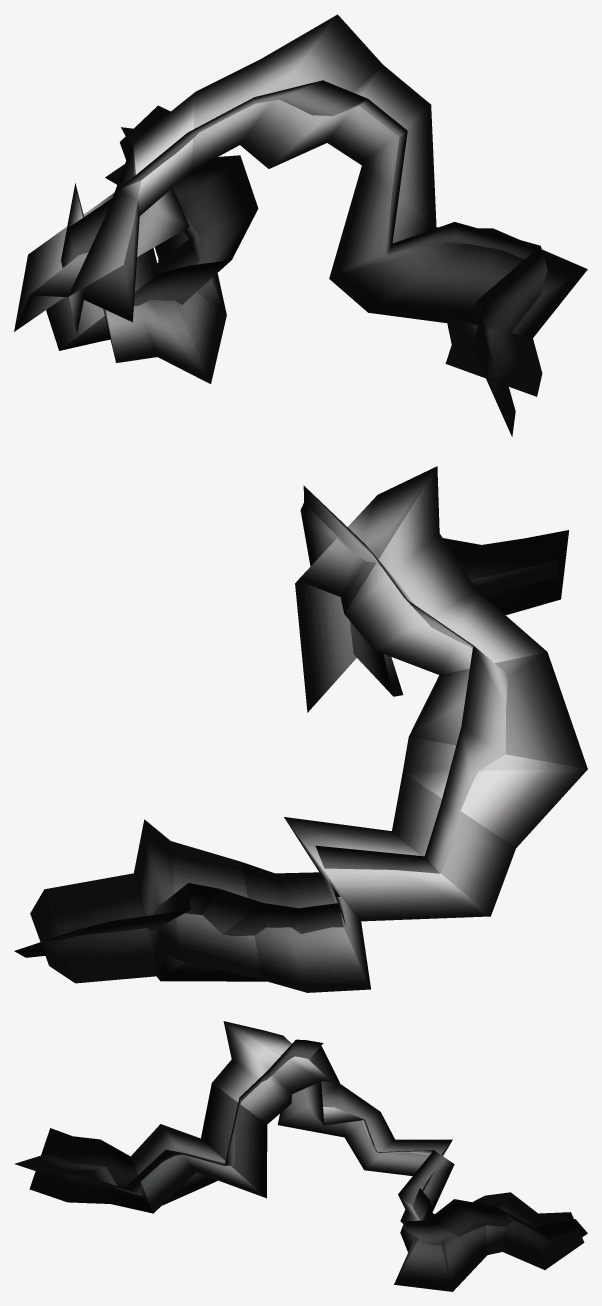
File: vfx_kurp_0864.dae
The picture shows the model from 3 angles, top to bottom: view 1: azimuth 30°, elevation 25°; view 2: azimuth 150°, elevation 25°; view 3: azimuth 270°, elevation 25°; orthographic projection. The views are drawn at different scales.
Parts seen in each view (by area): view 1: vfx_kurp_0864; view 2: vfx_kurp_0864; view 3: vfx_kurp_0864.
Part boxes in pixels (x1,y1,x2,y2): vfx_kurp_0864: (14, 14, 587, 436); vfx_kurp_0864: (14, 466, 587, 992); vfx_kurp_0864: (15, 1021, 587, 1291).
Size of the model in its own units: 7.5 by 15.39 by 7.69.
Materials: 1 (1 with a texture image).
